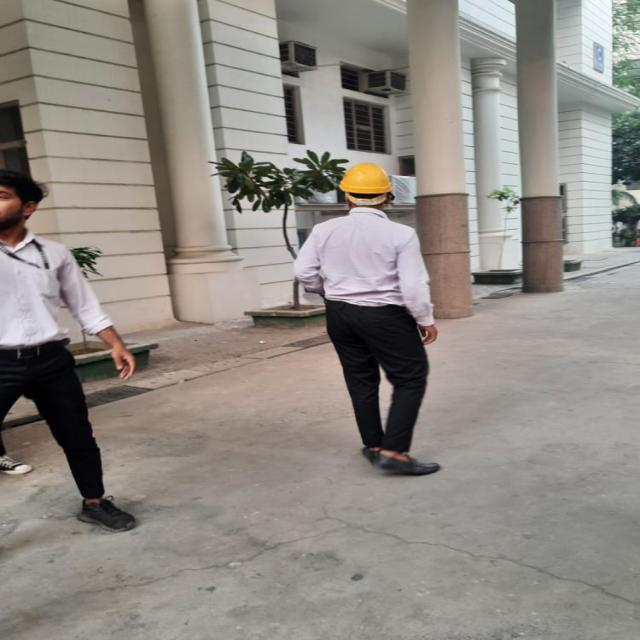no jacket: (300, 161, 462, 484)
unsafe: (0, 168, 141, 540)
